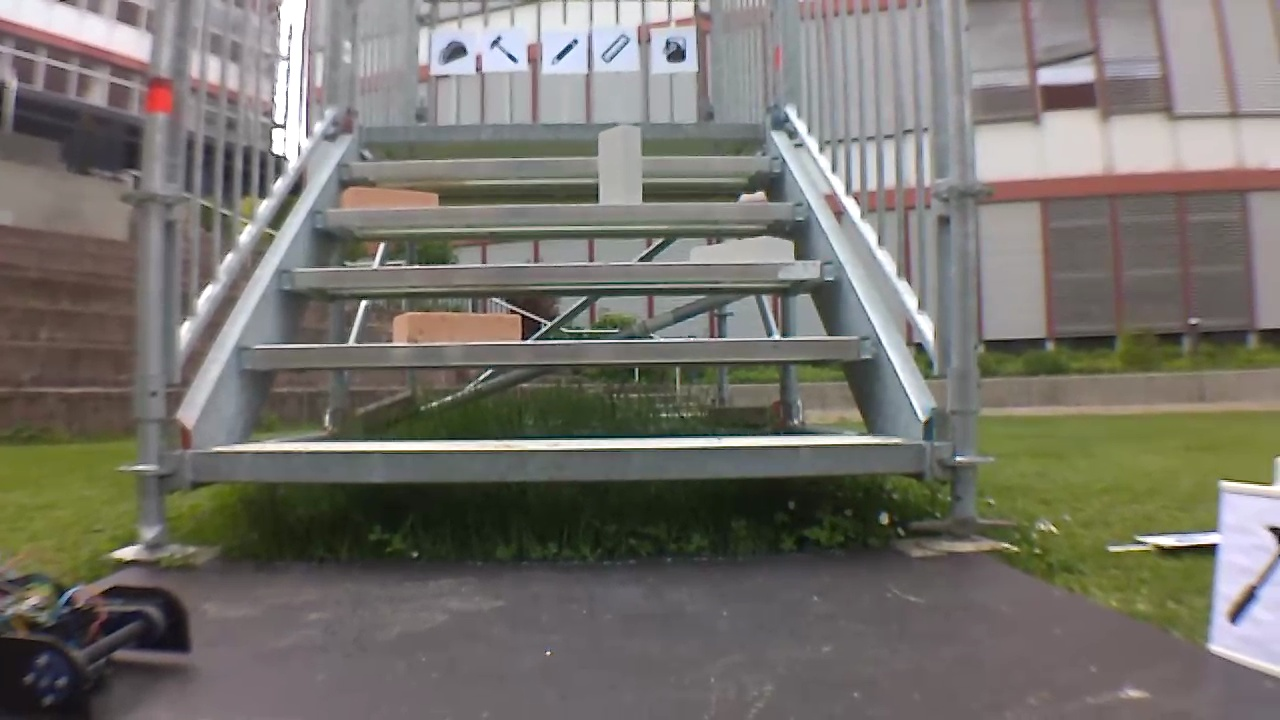brick: (393, 311, 521, 342), (597, 125, 641, 203), (692, 237, 793, 261), (342, 187, 437, 207)
bucket: (657, 31, 689, 65)
edge: (190, 443, 913, 478), (240, 337, 873, 363), (279, 260, 841, 286), (311, 202, 809, 223), (341, 157, 784, 176), (357, 123, 765, 140)
hammer: (483, 32, 525, 66)
pencil: (544, 33, 580, 70)
ruler: (595, 30, 635, 69)
stairs: (125, 1, 999, 554)
steps: (182, 114, 927, 485)
taco: (435, 37, 472, 69)
